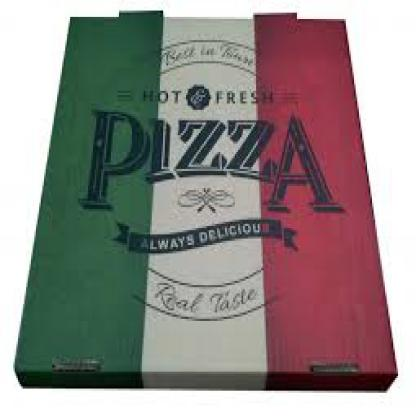CARDBOARD: (11, 9, 396, 390)
